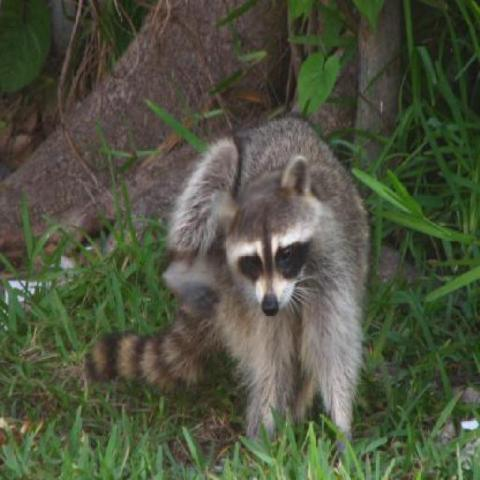small_animal: (82, 113, 374, 450)
